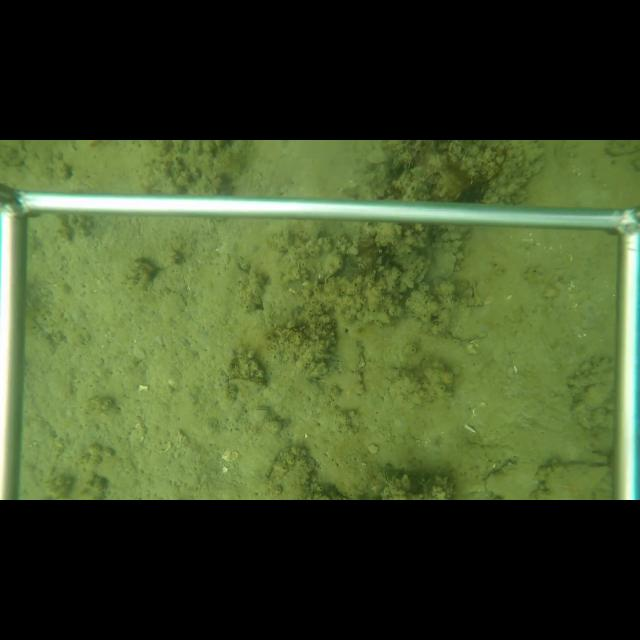Oyster-Closed: (480, 454, 543, 500), (541, 460, 613, 497), (424, 249, 459, 283), (225, 374, 268, 395), (382, 468, 394, 488)
